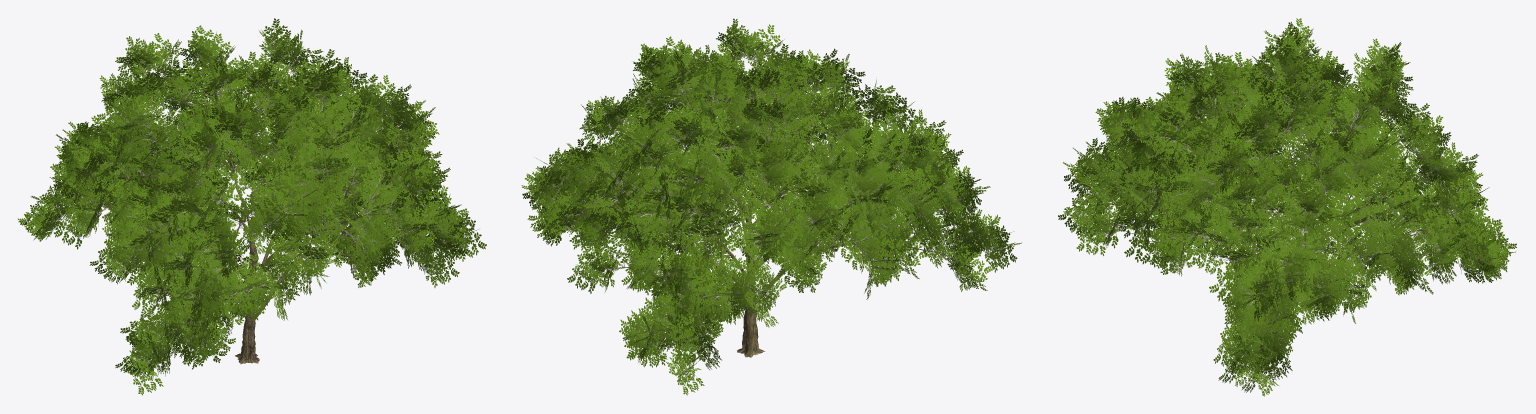
3 renders of one model, left to right at view 1: azimuth 30°, elevation 25°; view 2: azimuth 150°, elevation 25°; view 3: azimuth 270°, elevation 25°, orthographic. The views are drawn at different scales.
Visible parts, largest first — view 1: Euro_Beech_7; view 2: Euro_Beech_7; view 3: Euro_Beech_7.
Part boxes in pixels (<box>): Euro_Beech_7: <box>18,18,486,395</box>; Euro_Beech_7: <box>521,18,1021,395</box>; Euro_Beech_7: <box>1058,18,1516,396</box>.
Bounding box in the file's own units: 24.65 × 16.88 × 23.25.
Materials: 2 (2 with a texture image).
